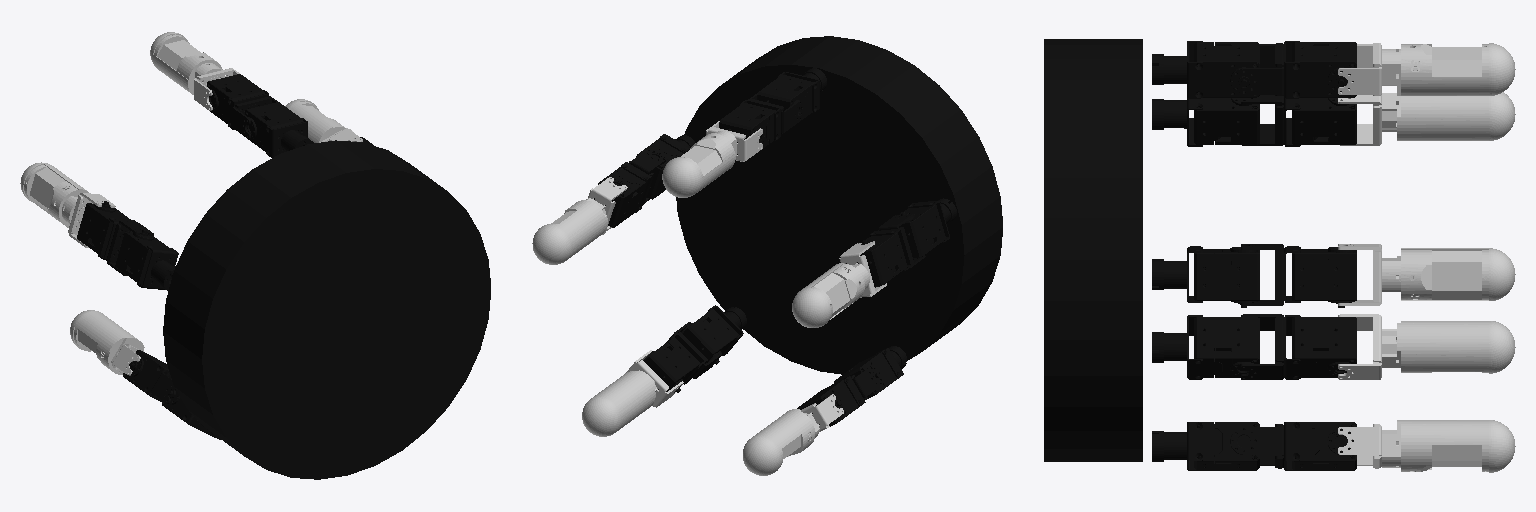
--- Render facts (derived) ---
Views: 3 orthographic renders of the robot side by side, from view 1: azimuth 30°, elevation 25°; view 2: azimuth 150°, elevation 25°; view 3: azimuth 270°, elevation 25°.
Model ur5e with 29 links and 28 joints (21 revolute, 7 fixed), rooted at base_link, posed all joints at 0.
Visible links, largest first — view 1: palm_link, finger5_distal, finger1_distal, finger4_distal, finger5_proximal, finger1_proximal, finger5_middle, finger1_middle, finger4_middle, finger2_distal, finger4_proximal; view 2: palm_link, finger1_distal, finger5_distal, finger3_distal, finger2_distal, finger4_distal, finger5_middle, finger1_middle, finger3_middle, finger3_proximal, finger5_proximal, finger2_middle (+4 smaller); view 3: palm_link, finger1_distal, finger4_distal, finger3_distal, finger2_distal, finger5_distal, finger4_middle, finger1_middle, finger4_proximal, finger2_proximal, finger1_proximal, finger2_middle (+4 smaller).
Boxes of the visible links, x1,y1,x2,y2 form: palm_link: (163, 140, 490, 479); finger5_distal: (20, 162, 115, 247); finger1_distal: (150, 32, 239, 110); finger4_distal: (70, 310, 144, 375); finger5_proximal: (115, 229, 178, 290); finger1_proximal: (245, 102, 313, 157); finger5_middle: (77, 201, 153, 275); finger1_middle: (207, 74, 277, 138); finger4_middle: (123, 350, 175, 403); finger2_distal: (285, 99, 362, 142); finger4_proximal: (162, 389, 220, 439); palm_link: (676, 36, 1002, 374); finger1_distal: (662, 121, 762, 197); finger5_distal: (792, 241, 886, 327); finger3_distal: (582, 350, 683, 436); finger2_distal: (532, 177, 627, 264); finger4_distal: (743, 394, 843, 475); finger5_middle: (857, 213, 925, 287); finger1_middle: (719, 93, 801, 153); finger3_middle: (643, 322, 721, 392); finger3_proximal: (681, 305, 746, 364); finger5_proximal: (899, 198, 956, 259); finger2_middle: (594, 149, 665, 227); palm_link: (1044, 39, 1142, 461); finger1_distal: (1338, 43, 1515, 95); finger4_distal: (1338, 314, 1515, 379); finger3_distal: (1338, 420, 1515, 472); finger2_distal: (1338, 244, 1515, 305); finger5_distal: (1338, 92, 1515, 145); finger4_middle: (1241, 314, 1356, 379); finger1_middle: (1241, 41, 1356, 98); finger4_proximal: (1152, 315, 1259, 379); finger2_proximal: (1152, 246, 1259, 307); finger1_proximal: (1152, 41, 1259, 98); finger2_middle: (1241, 244, 1356, 307).
Bounding box of the posed robot: 0.3071 × 0.3339 × 0.3103 m (x, y, z).
Meshes: 10 distinct files referenced, 15 mesh visuals loaded (3 Collada DAE); not drawn: 7 (reference not matched to a file when rendering).

robot.urdf — ur5e:
<?xml version="1.0" encoding="utf-8"?>
<!-- =================================================================================== -->
<!-- |    This document was autogenerated by xacro from ur5e_robot.urdf.xacro          | -->
<!-- |    EDITING THIS FILE BY HAND IS NOT RECOMMENDED                                 | -->
<!-- =================================================================================== -->
<robot name="ur5e" xmlns:xacro="http://ros.org/wiki/xacro">
  <link name="base_link">
    <visual>
      <geometry>
        <mesh filename="package://ur5e_hand/urdf/meshes/ur5e/visual/base.dae"/>
      </geometry>
      <material name="LightGrey">
        <color rgba="0.7 0.7 0.7 1.0"/>
      </material>
    </visual>
    <collision>
      <geometry>
        <mesh filename="package://ur5e_hand/urdf/meshes/ur5e/collision/base.stl" scale="1.0 1.0 1.0"/>
      </geometry>
    </collision>
    <inertial>
      <mass value="4.0"/>
      <origin rpy="0 0 0" xyz="0.0 0.0 0.0"/>
      <inertia ixx="0.00443333156" ixy="0.0" ixz="0.0" iyy="0.00443333156" iyz="0.0" izz="0.0072"/>
    </inertial>
  </link>
  <joint name="shoulder_pan_joint" type="revolute">
    <parent link="base_link"/>
    <child link="shoulder_link"/>
    <origin rpy="0.0 0.0 0.0" xyz="0.0 0.0 0.163"/>
    <axis xyz="0 0 1"/>
    <limit effort="150.0" lower="-6.28318530718" upper="6.28318530718" velocity="3.14"/>
    <dynamics damping="0.0" friction="0.0"/>
  </joint>
  <link name="shoulder_link">
    <visual>
      <geometry>
        <mesh filename="package://ur5e_hand/urdf/meshes/ur5e/visual/shoulder.dae"/>
      </geometry>
      <material name="LightGrey">
        <color rgba="0.7 0.7 0.7 1.0"/>
      </material>
    </visual>
    <collision>
      <geometry>
        <mesh filename="package://ur5e_hand/urdf/meshes/ur5e/collision/shoulder.stl" scale="1.0 1.0 1.0"/>
      </geometry>
    </collision>
    <inertial>
      <mass value="3.7"/>
      <origin rpy="0 0 0" xyz="0.0 0.0 0.0"/>
      <inertia ixx="0.010267495893" ixy="0.0" ixz="0.0" iyy="0.010267495893" iyz="0.0" izz="0.00666"/>
    </inertial>
  </link>
  <joint name="shoulder_lift_joint" type="revolute">
    <parent link="shoulder_link"/>
    <child link="upper_arm_link"/>
    <origin rpy="0.0 1.57079632679 0.0" xyz="0.0 0.138 0.0"/>
    <axis xyz="0 1 0"/>
    <limit effort="150.0" lower="-6.28318530718" upper="6.28318530718" velocity="3.14"/>
    <dynamics damping="0.0" friction="0.0"/>
  </joint>
  <link name="upper_arm_link">
    <visual>
      <geometry>
        <mesh filename="package://ur5e_hand/urdf/meshes/ur5e/visual/upperarm.dae"/>
      </geometry>
      <material name="LightGrey">
        <color rgba="0.7 0.7 0.7 1.0"/>
      </material>
    </visual>
    <collision>
      <geometry>
        <mesh filename="package://ur5e_hand/urdf/meshes/ur5e/collision/upperarm.stl" scale="1.0 1.0 1.0"/>
      </geometry>
    </collision>
    <inertial>
      <mass value="8.393"/>
      <origin rpy="0 0 0" xyz="0.0 0.0 0.2125"/>
      <inertia ixx="0.133885781862" ixy="0.0" ixz="0.0" iyy="0.133885781862" iyz="0.0" izz="0.0151074"/>
    </inertial>
  </link>
  <joint name="elbow_joint" type="revolute">
    <parent link="upper_arm_link"/>
    <child link="forearm_link"/>
    <origin rpy="0.0 0.0 0.0" xyz="0.0 -0.131 0.425"/>
    <axis xyz="0 1 0"/>
    <limit effort="150.0" lower="-3.14159265359" upper="3.14159265359" velocity="3.14"/>
    <dynamics damping="0.0" friction="0.0"/>
  </joint>
  <link name="forearm_link">
    <visual>
      <geometry>
        <mesh filename="package://ur5e_hand/urdf/meshes/ur5e/visual/forearm.dae"/>
      </geometry>
      <material name="LightGrey">
        <color rgba="0.7 0.7 0.7 1.0"/>
      </material>
    </visual>
    <collision>
      <geometry>
        <mesh filename="package://ur5e_hand/urdf/meshes/ur5e/collision/forearm.stl" scale="1.0 1.0 1.0"/>
      </geometry>
    </collision>
    <inertial>
      <mass value="2.275"/>
      <origin rpy="0 0 0" xyz="0.0 0.0 0.196"/>
      <inertia ixx="0.0311796208615" ixy="0.0" ixz="0.0" iyy="0.0311796208615" iyz="0.0" izz="0.004095"/>
    </inertial>
  </link>
  <joint name="wrist_1_joint" type="revolute">
    <parent link="forearm_link"/>
    <child link="wrist_1_link"/>
    <origin rpy="0.0 1.57079632679 0.0" xyz="0.0 0.0 0.392"/>
    <axis xyz="0 1 0"/>
    <limit effort="28.0" lower="-6.28318530718" upper="6.28318530718" velocity="6.28"/>
    <dynamics damping="0.0" friction="0.0"/>
  </joint>
  <link name="wrist_1_link">
    <visual>
      <geometry>
        <mesh filename="package://ur5e_hand/urdf/meshes/ur5e/visual/wrist1.dae"/>
      </geometry>
      <material name="LightGrey">
        <color rgba="0.7 0.7 0.7 1.0"/>
      </material>
    </visual>
    <collision>
      <geometry>
        <mesh filename="package://ur5e_hand/urdf/meshes/ur5e/collision/wrist1.stl" scale="1.0 1.0 1.0"/>
      </geometry>
    </collision>
    <inertial>
      <mass value="1.219"/>
      <origin rpy="0 0 0" xyz="0.0 0.127 0.0"/>
      <inertia ixx="0.00255989897604" ixy="0.0" ixz="0.0" iyy="0.00255989897604" iyz="0.0" izz="0.0021942"/>
    </inertial>
  </link>
  <joint name="wrist_2_joint" type="revolute">
    <parent link="wrist_1_link"/>
    <child link="wrist_2_link"/>
    <origin rpy="0.0 0.0 0.0" xyz="0.0 0.127 0.0"/>
    <axis xyz="0 0 1"/>
    <limit effort="28.0" lower="-6.28318530718" upper="6.28318530718" velocity="6.28"/>
    <dynamics damping="0.0" friction="0.0"/>
  </joint>
  <link name="wrist_2_link">
    <visual>
      <geometry>
        <mesh filename="package://ur5e_hand/urdf/meshes/ur5e/visual/wrist2.dae"/>
      </geometry>
      <material name="LightGrey">
        <color rgba="0.7 0.7 0.7 1.0"/>
      </material>
    </visual>
    <collision>
      <geometry>
        <mesh filename="package://ur5e_hand/urdf/meshes/ur5e/collision/wrist2.stl" scale="1.0 1.0 1.0"/>
      </geometry>
    </collision>
    <inertial>
      <mass value="1.219"/>
      <origin rpy="0 0 0" xyz="0.0 0.0 0.1"/>
      <inertia ixx="0.00255989897604" ixy="0.0" ixz="0.0" iyy="0.00255989897604" iyz="0.0" izz="0.0021942"/>
    </inertial>
  </link>
  <joint name="wrist_3_joint" type="revolute">
    <parent link="wrist_2_link"/>
    <child link="wrist_3_link"/>
    <origin rpy="0.0 0.0 0.0" xyz="0.0 0.0 0.1"/>
    <axis xyz="0 1 0"/>
    <limit effort="28.0" lower="-6.28318530718" upper="6.28318530718" velocity="6.28"/>
    <dynamics damping="0.0" friction="0.0"/>
  </joint>
  <link name="wrist_3_link">
    <visual>
      <geometry>
        <mesh filename="package://ur5e_hand/urdf/meshes/ur5e/visual/wrist3.dae"/>
      </geometry>
      <material name="LightGrey">
        <color rgba="0.7 0.7 0.7 1.0"/>
      </material>
    </visual>
    <collision>
      <geometry>
        <mesh filename="package://ur5e_hand/urdf/meshes/ur5e/collision/wrist3.stl" scale="1.0 1.0 1.0"/>
      </geometry>
    </collision>
    <inertial>
      <mass value="0.1879"/>
      <origin rpy="1.57079632679 0 0" xyz="0.0 0.0771 0.0"/>
      <inertia ixx="9.89041005217e-05" ixy="0.0" ixz="0.0" iyy="9.89041005217e-05" iyz="0.0" izz="0.0001321171875"/>
    </inertial>
  </link>
  <joint name="ee_fixed_joint" type="fixed">
    <parent link="wrist_3_link"/>
    <child link="ee_link"/>
    <origin rpy="0.0 0.0 1.57079632679" xyz="0.0 0.1 0.0"/>
  </joint>
  <link name="ee_link">
    <collision>
      <geometry>
        <box size="0.01 0.01 0.01"/>
      </geometry>
      <origin rpy="0 0 0" xyz="-0.01 0 0"/>
    </collision>
  </link>




  <material name="black">
    <color rgba="0 0 0 1"/>
  </material>
  <material name="gray">
    <color rgba="0.1 0.1 0.1 1"/>
  </material>
  <material name="lightgray">
    <color rgba="0.8 0.8 0.8 1"/>
  </material>

  <link name="palm_link">
    <visual>
      <origin rpy="0.0 0.0 0.0" xyz="0.0 0.0 0.0"/>
      <geometry>
        <cylinder length="0.07" radius="0.15"/>
      </geometry>
      <material name="gray"/>
    </visual>
  </link>

  <joint name="ee_hand_joint" type="fixed">
    <parent link="ee_link"/>
    <child link="palm_link"/>
    <origin rpy="0.0 1.57079632679 0.0" xyz="0.0 0.0 0.0"/>
  </joint>


  <!-- Finger 1 -->
  <link name="finger1_proximal">
    <visual>
      <origin rpy="0 0 0" xyz="0 0 0" />
      <geometry>
        <mesh filename="package://hand/urdf/meshes/visual/proximal.dae"/>
      </geometry>
      <material name="gray"/>
    </visual>
    <collision>
      <origin rpy="0 0 0" xyz="0 0 0" />
      <geometry>
        <mesh filename="package://hand/urdf/meshes/collision/proximal.obj"/>
      </geometry>
    </collision>
    <inertial>
      <mass value="0.100"/>
    </inertial>
  </link>
  <link name="finger1_middle">
    <visual>
      <origin rpy="0 0 0" xyz="0 0 0" />
      <geometry>
        <mesh filename="package://hand/urdf/meshes/visual/middle.dae"/>
      </geometry>
      <material name="gray"/>
    </visual>
    <collision>
      <origin rpy="0 0 0" xyz="0 0 0" />
      <geometry>
        <mesh filename="package://hand/urdf/meshes/collision/middle.obj"/>
      </geometry>
    </collision>
    <inertial>
      <mass value="0.100"/>
    </inertial>
  </link>
  <link name="finger1_distal">
    <visual>
      <origin rpy="0 3.14159265359 0" xyz="0 0 0"/>
      <geometry>
        <mesh filename="package://hand/urdf/meshes/visual/distal.dae"/>
      </geometry>
      <material name="lightgray"/>
    </visual>
<!--    <visual name="tip">-->
<!--      <origin xyz="0 0 0"/>-->
<!--      <geometry>-->
<!--        <sphere radius="0.019"/>-->
<!--      </geometry>-->
<!--    </visual>-->
<!--    <visual name="body">-->
<!--      <origin xyz="0 0 -0.03075"/>-->
<!--      <geometry>-->
<!--        <cylinder length="0.0615" radius="0.019"/>-->
<!--      </geometry>-->
<!--    </visual>-->
    <collision name="tip">
      <origin rpy="-1.57079633 1.57079633 0" xyz="0.0 0.1043 0.0"/>
      <geometry>
        <sphere radius="0.019"/>
      </geometry>
    </collision>
    <collision name="body">
      <origin rpy="-1.57079633 1.57079633 0" xyz="0 0.06358 0.0"/>
      <geometry>
        <cylinder length="0.0815" radius="0.019"/>
      </geometry>
    </collision>
    <inertial>
      <mass value="0.11"/>
      <inertia ixx="0.01" ixy="0.00" ixz="0.00" iyy="0.01" iyz="0.0" izz="0.01"/>
      <!-- inertia is recomputed when loading asset  -->
    </inertial>
  </link>
  <link name="finger1_distal_tip">
  </link>
  <joint name="finger1_proximal_joint" type="revolute">
    <parent link="palm_link"/>
    <child link="finger1_proximal"/>
    <origin rpy="1.57079633 0 1.57079633" xyz="0.14142136 0.0 0.041"/>
    <axis xyz="0 1 0"/>
    <limit effort="4" velocity="1.0" lower="-1.0" upper="1.0"/>
  </joint>
  <joint name="finger1_middle_joint" type="revolute">
    <parent link="finger1_proximal"/>
    <child link="finger1_middle"/>
    <origin rpy="0 0 0" xyz="0.0 0.0655 0.0"/>
    <axis xyz="-1 0 0"/>
    <limit effort="4" velocity="1.0" lower="0.0" upper="1.0"/>
  </joint>
  <joint name="finger1_distal_joint" type="revolute">
    <parent link="finger1_middle"/>
    <child link="finger1_distal"/>
    <origin rpy="0 0 0" xyz="0.0 0.069 0.0"/>
    <axis xyz="-1 0 0"/>
    <limit effort="4" velocity="1.0" lower="0.0" upper="1.0"/>
  </joint>
  <joint name="finger1_distal_tip_joint" type="fixed">
    <parent link="finger1_distal"/>
    <child link="finger1_distal_tip"/>
    <origin rpy="-1.57079633 1.57079633 0" xyz="0.0 0.1035 0.0"/>
  </joint>

  <!-- Finger 2 -->
  <link name="finger2_proximal">
    <visual>
      <origin rpy="0 0 0" xyz="0 0 0" />
      <geometry>
        <mesh filename="package://hand/urdf/meshes/visual/proximal.dae"/>
      </geometry>
      <material name="gray"/>
    </visual>
    <collision>
      <origin rpy="0 0 0" xyz="0 0 0" />
      <geometry>
        <mesh filename="package://hand/urdf/meshes/collision/proximal.obj"/>
      </geometry>
    </collision>
    <inertial>
      <mass value="0.100"/>
    </inertial>
  </link>
  <link name="finger2_middle">
    <visual>
      <origin rpy="0 0 0" xyz="0 0 0" />
      <geometry>
        <mesh filename="package://hand/urdf/meshes/visual/middle.dae"/>
      </geometry>
      <material name="gray"/>
    </visual>
    <collision>
      <origin rpy="0 0 0" xyz="0 0 0" />
      <geometry>
        <mesh filename="package://hand/urdf/meshes/collision/middle.obj"/>
      </geometry>
    </collision>
    <inertial>
      <mass value="0.100"/>
    </inertial>
  </link>
  <link name="finger2_distal">
    <visual>
      <origin rpy="0 3.14159265359 0" xyz="0 0 0" />
      <geometry>
        <mesh filename="package://hand/urdf/meshes/visual/distal.dae"/>
      </geometry>
      <material name="lightgray"/>
    </visual>
<!--    <collision>-->
<!--      <origin rpy="0 3.14159265359 0" xyz="0 0 0" />-->
<!--      <geometry>-->
<!--        <mesh filename="package://hand/urdf/meshes/collision/distal.obj"/>-->
<!--      </geometry>-->
<!--    </collision>-->
    <collision name="tip">
      <origin rpy="-1.57079633 1.57079633 0" xyz="0.0 0.1043 0.0"/>
      <geometry>
        <sphere radius="0.019"/>
      </geometry>
    </collision>
    <collision name="body">
      <origin rpy="-1.57079633 1.57079633 0" xyz="0 0.06358 0.0"/>
      <geometry>
        <cylinder length="0.0815" radius="0.019"/>
      </geometry>
    </collision>
    <inertial>
      <mass value="0.11"/>
      <inertia ixx="0.01" ixy="0.00" ixz="0.00" iyy="0.01" iyz="0.0" izz="0.01"/>
      <!-- inertia is recomputed when loading asset  -->
    </inertial>
  </link>
  <link name="finger2_distal_tip">
<!--    <visual name="tip">-->
<!--      <origin xyz="0 0 0"/>-->
<!--      <geometry>-->
<!--        <sphere radius="0.019"/>-->
<!--      </geometry>-->
<!--    </visual>-->
<!--    <visual name="body">-->
<!--      <origin xyz="0 0 -0.03075"/>-->
<!--      <geometry>-->
<!--        <cylinder length="0.0615" radius="0.019"/>-->
<!--      </geometry>-->
<!--    </visual>-->
<!--    <collision name="tip">-->
<!--      <origin xyz="0 0 0"/>-->
<!--      <geometry>-->
<!--        <sphere radius="0.019"/>-->
<!--      </geometry>-->
<!--    </collision>-->
<!--    <collision name="body">-->
<!--      <origin xyz="0 0 -0.03075"/>-->
<!--      <geometry>-->
<!--        <cylinder length="0.0615" radius="0.019"/>-->
<!--      </geometry>-->
<!--    </collision>-->
<!--    <inertial>-->
<!--      <mass value="0.05"/>-->
<!--      <inertia ixx="0.01" ixy="0.00" ixz="0.00" iyy="0.01" iyz="0.0" izz="0.01"/>-->
<!--      &lt;!&ndash; inertia is recomputed when loading asset  &ndash;&gt;-->
<!--    </inertial>-->
  </link>
  <joint name="finger2_proximal_joint" type="revolute">
    <parent link="palm_link"/>
    <child link="finger2_proximal"/>
    <origin rpy="1.57079633 0 2.82743338823" xyz="0.043701602 0.134499702 0.041"/>
    <axis xyz="0 1 0"/>
    <limit effort="4" velocity="1.0" lower="-1.0" upper="1.0"/>
  </joint>
  <joint name="finger2_middle_joint" type="revolute">
    <parent link="finger2_proximal"/>
    <child link="finger2_middle"/>
    <origin rpy="0 0 0" xyz="0.0 0.0655 0.0"/>
    <axis xyz="-1 0 0"/>
    <limit effort="4" velocity="1.0" lower="0.0" upper="1.0"/>
  </joint>
  <joint name="finger2_distal_joint" type="revolute">
    <parent link="finger2_middle"/>
    <child link="finger2_distal"/>
    <origin rpy="0 0 0" xyz="0.0 0.069 0.0"/>
    <axis xyz="-1 0 0"/>
    <limit effort="4" velocity="1.0" lower="0.0" upper="1.0"/>
  </joint>
  <joint name="finger2_distal_tip_joint" type="fixed">
    <parent link="finger2_distal"/>
    <child link="finger2_distal_tip"/>
    <origin rpy="-1.57079633 1.57079633 0" xyz="0.0 0.1035 0.0"/>
  </joint>


  <!-- Finger 3 -->
  <link name="finger3_proximal">
     <visual>
      <origin rpy="0 0 0" xyz="0 0 0" />
      <geometry>
        <mesh filename="package://hand/urdf/meshes/visual/proximal.dae"/>
      </geometry>
      <material name="gray"/>
    </visual>
    <collision>
      <origin rpy="0 0 0" xyz="0 0 0" />
      <geometry>
        <mesh filename="package://hand/urdf/meshes/collision/proximal.obj"/>
      </geometry>
    </collision>
     <inertial>
      <mass value="0.100"/>
    </inertial>
  </link>
  <link name="finger3_middle">
    <visual>
      <origin rpy="0 0 0" xyz="0 0 0" />
      <geometry>
        <mesh filename="package://hand/urdf/meshes/visual/middle.dae"/>
      </geometry>
      <material name="gray"/>
    </visual>
    <collision>
      <origin rpy="0 0 0" xyz="0 0 0" />
      <geometry>
        <mesh filename="package://hand/urdf/meshes/collision/middle.obj"/>
      </geometry>
    </collision>
    <inertial>
      <mass value="0.100"/>
    </inertial>
  </link>
  <link name="finger3_distal">
    <visual>
      <origin rpy="0 3.14159265359 0" xyz="0 0 0" />
      <geometry>
        <mesh filename="package://hand/urdf/meshes/visual/distal.dae"/>
      </geometry>
      <material name="lightgray"/>
    </visual>
<!--    <collision>-->
<!--      <origin rpy="0 3.14159265359 0" xyz="0 0 0" />-->
<!--      <geometry>-->
<!--        <mesh filename="package://hand/urdf/meshes/collision/distal.obj"/>-->
<!--      </geometry>-->
<!--    </collision>-->
    <collision name="tip">
      <origin rpy="-1.57079633 1.57079633 0" xyz="0.0 0.1043 0.0"/>
      <geometry>
        <sphere radius="0.019"/>
      </geometry>
    </collision>
    <collision name="body">
      <origin rpy="-1.57079633 1.57079633 0" xyz="0 0.06358 0.0"/>
      <geometry>
        <cylinder length="0.0815" radius="0.019"/>
      </geometry>
    </collision>
    <inertial>
      <mass value="0.11"/>
      <inertia ixx="0.01" ixy="0.00" ixz="0.00" iyy="0.01" iyz="0.0" izz="0.01"/>
      <!-- inertia is recomputed when loading asset  -->
    </inertial>
  </link>
  <link name="finger3_distal_tip">
<!--       <visual name="tip">-->
<!--      <origin xyz="0 0 0"/>-->
<!--      <geometry>-->
<!--        <sphere radius="0.019"/>-->
<!--      </geometry>-->
<!--    </visual>-->
<!--    <visual name="body">-->
<!--      <origin xyz="0 0 -0.03075"/>-->
<!--      <geometry>-->
<!--        <cylinder length="0.0615" radius="0.019"/>-->
<!--      </geometry>-->
<!--    </visual>-->
<!--    <collision name="tip">-->
<!--      <origin xyz="0 0 0"/>-->
<!--      <geometry>-->
<!--        <sphere radius="0.019"/>-->
<!--      </geometry>-->
<!--    </collision>-->
<!--    <collision name="body">-->
<!--      <origin xyz="0 0 -0.03075"/>-->
<!--      <geometry>-->
<!--        <cylinder length="0.0615" radius="0.019"/>-->
<!--      </geometry>-->
<!--    </collision>-->
<!--    <inertial>-->
<!--      <mass value="0.11"/>-->
<!--      <inertia ixx="0.01" ixy="0.00" ixz="0.00" iyy="0.01" iyz="0.0" izz="0.01"/>-->
<!--      &lt;!&ndash; inertia is recomputed when loading asset  &ndash;&gt;-->
<!--    </inertial>-->
  </link>
  <joint name="finger3_proximal_joint" type="revolute">
    <parent link="palm_link"/>
    <child link="finger3_proximal"/>
    <origin rpy="1.57079633 0 -2.19911485751" xyz="-0.114412281  0.083125388  0.041"/>
    <axis xyz="0 1 0"/>
    <limit effort="4" velocity="1.0" lower="-1.0" upper="1.0"/>
  </joint>
  <joint name="finger3_middle_joint" type="revolute">
    <parent link="finger3_proximal"/>
    <child link="finger3_middle"/>
    <origin rpy="0 0 0" xyz="0.0 0.0655 0.0"/>
    <axis xyz="-1 0 0"/>
    <limit effort="4" velocity="1.0" lower="0.0" upper="1.0"/>
  </joint>
  <joint name="finger3_distal_joint" type="revolute">
    <parent link="finger3_middle"/>
    <child link="finger3_distal"/>
    <origin rpy="0 0 0" xyz="0.0 0.069 0.0"/>
    <axis xyz="-1 0 0"/>
    <limit effort="4" velocity="1.0" lower="0.0" upper="1.0"/>
  </joint>
  <joint name="finger3_distal_tip_joint" type="fixed">
    <parent link="finger3_distal"/>
    <child link="finger3_distal_tip"/>
    <origin rpy="-1.57079633 1.57079633 0" xyz="0.0 0.1035 0.0"/>
  </joint>

  <!-- Finger 4 -->
  <link name="finger4_proximal">
     <visual>
      <origin rpy="0 0 0" xyz="0 0 0" />
      <geometry>
        <mesh filename="package://hand/urdf/meshes/visual/proximal.dae"/>
      </geometry>
      <material name="gray"/>
    </visual>
    <collision>
      <origin rpy="0 0 0" xyz="0 0 0" />
      <geometry>
        <mesh filename="package://hand/urdf/meshes/collision/proximal.obj"/>
      </geometry>
    </collision>
    <inertial>
      <mass value="0.100"/>
    </inertial>
  </link>
  <link name="finger4_middle">
   <visual>
      <origin rpy="0 0 0" xyz="0 0 0" />
      <geometry>
        <mesh filename="package://hand/urdf/meshes/visual/middle.dae"/>
      </geometry>
      <material name="gray"/>
    </visual>
    <collision>
      <origin rpy="0 0 0" xyz="0 0 0" />
      <geometry>
        <mesh filename="package://hand/urdf/meshes/collision/middle.obj"/>
      </geometry>
    </collision>
    <inertial>
      <mass value="0.100"/>
    </inertial>
  </link>
  <link name="finger4_distal">
    <visual>
      <origin rpy="0 3.14159265359 0" xyz="0 0 0" />
      <geometry>
        <mesh filename="package://hand/urdf/meshes/visual/distal.dae"/>
      </geometry>
      <material name="lightgray"/>
    </visual>
<!--    <collision>-->
<!--      <origin rpy="0 3.14159265359 0" xyz="0 0 0" />-->
<!--      <geometry>-->
<!--        <mesh filename="package://hand/urdf/meshes/collision/distal.obj"/>-->
<!--      </geometry>-->
<!--    </collision>-->
    <collision name="tip">
      <origin rpy="-1.57079633 1.57079633 0" xyz="0.0 0.1043 0.0"/>
      <geometry>
        <sphere radius="0.019"/>
      </geometry>
    </collision>
    <collision name="body">
      <origin rpy="-1.57079633 1.57079633 0" xyz="0 0.06358 0.0"/>
      <geometry>
        <cylinder length="0.0815" radius="0.019"/>
      </geometry>
    </collision>
    <inertial>
      <mass value="0.11"/>
      <inertia ixx="0.01" ixy="0.00" ixz="0.00" iyy="0.01" iyz="0.0" izz="0.01"/>
      <!-- inertia is recomputed when loading asset  -->
    </inertial>
  </link>
  <link name="finger4_distal_tip">
<!--       <visual name="tip">-->
<!--      <origin xyz="0 0 0"/>-->
<!--      <geometry>-->
<!--        <sphere radius="0.019"/>-->
<!--      </geometry>-->
<!--    </visual>-->
<!--    <visual name="body">-->
<!--      <origin xyz="0 0 -0.03075"/>-->
<!--      <geometry>-->
<!--        <cylinder length="0.0615" radius="0.019"/>-->
<!--      </geometry>-->
<!--    </visual>-->
<!--    <collision name="tip">-->
<!--      <origin xyz="0 0 0"/>-->
<!--      <geometry>-->
<!--        <sphere radius="0.019"/>-->
<!--      </geometry>-->
<!--    </collision>-->
<!--    <collision name="body">-->
<!--      <origin xyz="0 0 -0.03075"/>-->
<!--      <geometry>-->
<!--        <cylinder length="0.0615" radius="0.019"/>-->
<!--      </geometry>-->
<!--    </collision>-->
<!--    <inertial>-->
<!--      <mass value="0.05"/>-->
<!--      <inertia ixx="0.01" ixy="0.00" ixz="0.00" iyy="0.01" iyz="0.0" izz="0.01"/>-->
<!--      &lt;!&ndash; inertia is recomputed when loading asset  &ndash;&gt;-->
<!--    </inertial>-->
  </link>
  <joint name="finger4_proximal_joint" type="revolute">
    <parent link="palm_link"/>
    <child link="finger4_proximal"/>
    <origin rpy="1.57079633 0 -0.94247779607" xyz="-0.114412281 -0.083125388  0.041"/>
    <axis xyz="0 1 0"/>
    <limit effort="4" velocity="1.0" lower="-1.0" upper="1.0"/>
  </joint>
  <joint name="finger4_middle_joint" type="revolute">
    <parent link="finger4_proximal"/>
    <child link="finger4_middle"/>
    <origin rpy="0 0 0" xyz="0.0 0.0655 0.0"/>
    <axis xyz="-1 0 0"/>
    <limit effort="4" velocity="1.0" lower="0.0" upper="1.0"/>
  </joint>
  <joint name="finger4_distal_joint" type="revolute">
    <parent link="finger4_middle"/>
    <child link="finger4_distal"/>
    <origin rpy="0 0 0" xyz="0.0 0.069 0.0"/>
    <axis xyz="-1 0 0"/>
    <limit effort="4" velocity="1.0" lower="0.0" upper="1.0"/>
  </joint>
  <joint name="finger4_distal_tip_joint" type="fixed">
    <parent link="finger4_distal"/>
    <child link="finger4_distal_tip"/>
    <origin rpy="-1.57079633 1.57079633 0" xyz="0.0 0.1035 0.0"/>
  </joint>


  <!-- Finger 5 -->
  <link name="finger5_proximal">
     <visual>
      <origin rpy="0 0 0" xyz="0 0 0" />
      <geometry>
        <mesh filename="package://hand/urdf/meshes/visual/proximal.dae"/>
      </geometry>
      <material name="gray"/>
    </visual>
    <collision>
      <origin rpy="0 0 0" xyz="0 0 0" />
      <geometry>
        <mesh filename="package://hand/urdf/meshes/collision/proximal.obj"/>
      </geometry>
    </collision>
    <inertial>
      <mass value="0.100"/>
    </inertial>
  </link>
  <link name="finger5_middle">
    <visual>
      <origin rpy="0 0 0" xyz="0 0 0" />
      <geometry>
        <mesh filename="package://hand/urdf/meshes/visual/middle.dae"/>
      </geometry>
      <material name="gray"/>
    </visual>
    <collision>
      <origin rpy="0 0 0" xyz="0 0 0" />
      <geometry>
        <mesh filename="package://hand/urdf/meshes/collision/middle.obj"/>
      </geometry>
    </collision>
    <inertial>
      <mass value="0.100"/>
    </inertial>
  </link>
  <link name="finger5_distal">
    <visual>
      <origin rpy="0 3.14159265359 0" xyz="0 0 0"/>
      <geometry>
        <mesh filename="package://hand/urdf/meshes/visual/distal.dae"/>
      </geometry>
      <material name="lightgray"/>
    </visual>
<!--    <collision>-->
<!--      <origin rpy="0 3.14159265359 0" xyz="0 0 0" />-->
<!--      <geometry>-->
<!--        <mesh filename="package://hand/urdf/meshes/collision/distal.obj"/>-->
<!--      </geometry>-->
<!--    </collision>-->
    <collision name="tip">
      <origin rpy="-1.57079633 1.57079633 0" xyz="0.0 0.1043 0.0"/>
      <geometry>
        <sphere radius="0.019"/>
      </geometry>
    </collision>
    <collision name="body">
      <origin rpy="-1.57079633 1.57079633 0" xyz="0 0.06358 0.0"/>
      <geometry>
        <cylinder length="0.0815" radius="0.019"/>
      </geometry>
    </collision>
    <inertial>
      <mass value="0.11"/>
      <inertia ixx="0.01" ixy="0.00" ixz="0.00" iyy="0.01" iyz="0.0" izz="0.01"/>
      <!-- inertia is recomputed when loading asset  -->
    </inertial>
  </link>
  <link name="finger5_distal_tip">
<!--       <visual name="tip">-->
<!--      <origin xyz="0 0 0"/>-->
<!--      <geometry>-->
<!--        <sphere radius="0.019"/>-->
<!--      </geometry>-->
<!--    </visual>-->
<!--    <visual name="body">-->
<!--      <origin xyz="0 0 -0.03075"/>-->
<!--      <geometry>-->
<!--        <cylinder length="0.0615" radius="0.019"/>-->
<!--      </geometry>-->
<!--    </visual>-->
<!--    <collision name="tip">-->
<!--      <origin xyz="0 0 0"/>-->
<!--      <geometry>-->
<!--        <sphere radius="0.019"/>-->
<!--      </geometry>-->
<!--    </collision>-->
<!--    <collision name="body">-->
<!--      <origin xyz="0 0 -0.03075"/>-->
<!--      <geometry>-->
<!--        <cylinder length="0.0615" radius="0.019"/>-->
<!--      </geometry>-->
<!--    </collision>-->
<!--    <inertial>-->
<!--      <mass value="0.05"/>-->
<!--      <inertia ixx="0.01" ixy="0.00" ixz="0.00" iyy="0.01" iyz="0.0" izz="0.01"/>-->
<!--      &lt;!&ndash; inertia is recomputed when loading asset  &ndash;&gt;-->
<!--    </inertial>-->
  </link>
  <joint name="finger5_proximal_joint" type="revolute">
    <parent link="palm_link"/>
    <child link="finger5_proximal"/>
    <origin rpy="1.57079633 0 0.31415926535" xyz="0.043701602 -0.134499702  0.041"/>
    <axis xyz="0 1 0"/>
    <limit effort="4" velocity="1.0" lower="-1.0" upper="1.0"/>
  </joint>
  <joint name="finger5_middle_joint" type="revolute">
    <parent link="finger5_proximal"/>
    <child link="finger5_middle"/>
    <origin rpy="0 0 0" xyz="0.0 0.0655 0.0"/>
    <axis xyz="-1 0 0"/>
    <limit effort="4" velocity="1.0" lower="0.0" upper="1.0"/>
  </joint>
  <joint name="finger5_distal_joint" type="revolute">
    <parent link="finger5_middle"/>
    <child link="finger5_distal"/>
    <origin rpy="0 0 0" xyz="0.0 0.069 0.0"/>
    <axis xyz="-1 0 0"/>
    <limit effort="4" velocity="1.0" lower="0.0" upper="1.0"/>
  </joint>
  <joint name="finger5_distal_tip_joint" type="fixed">
    <parent link="finger5_distal"/>
    <child link="finger5_distal_tip"/>
    <origin rpy="-1.57079633 1.57079633 0" xyz="0.0 0.1035 0.0"/>
  </joint>
</robot>
